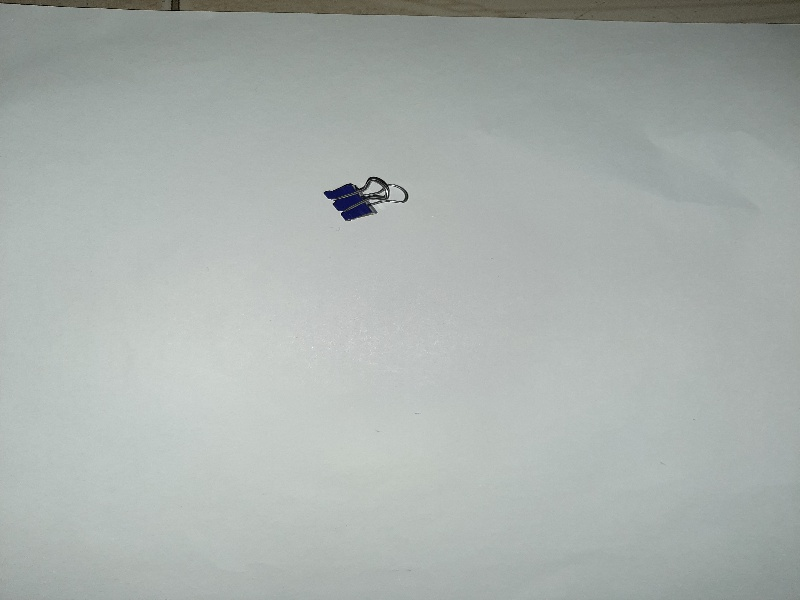Small Paperclip: (319, 166, 411, 229)
